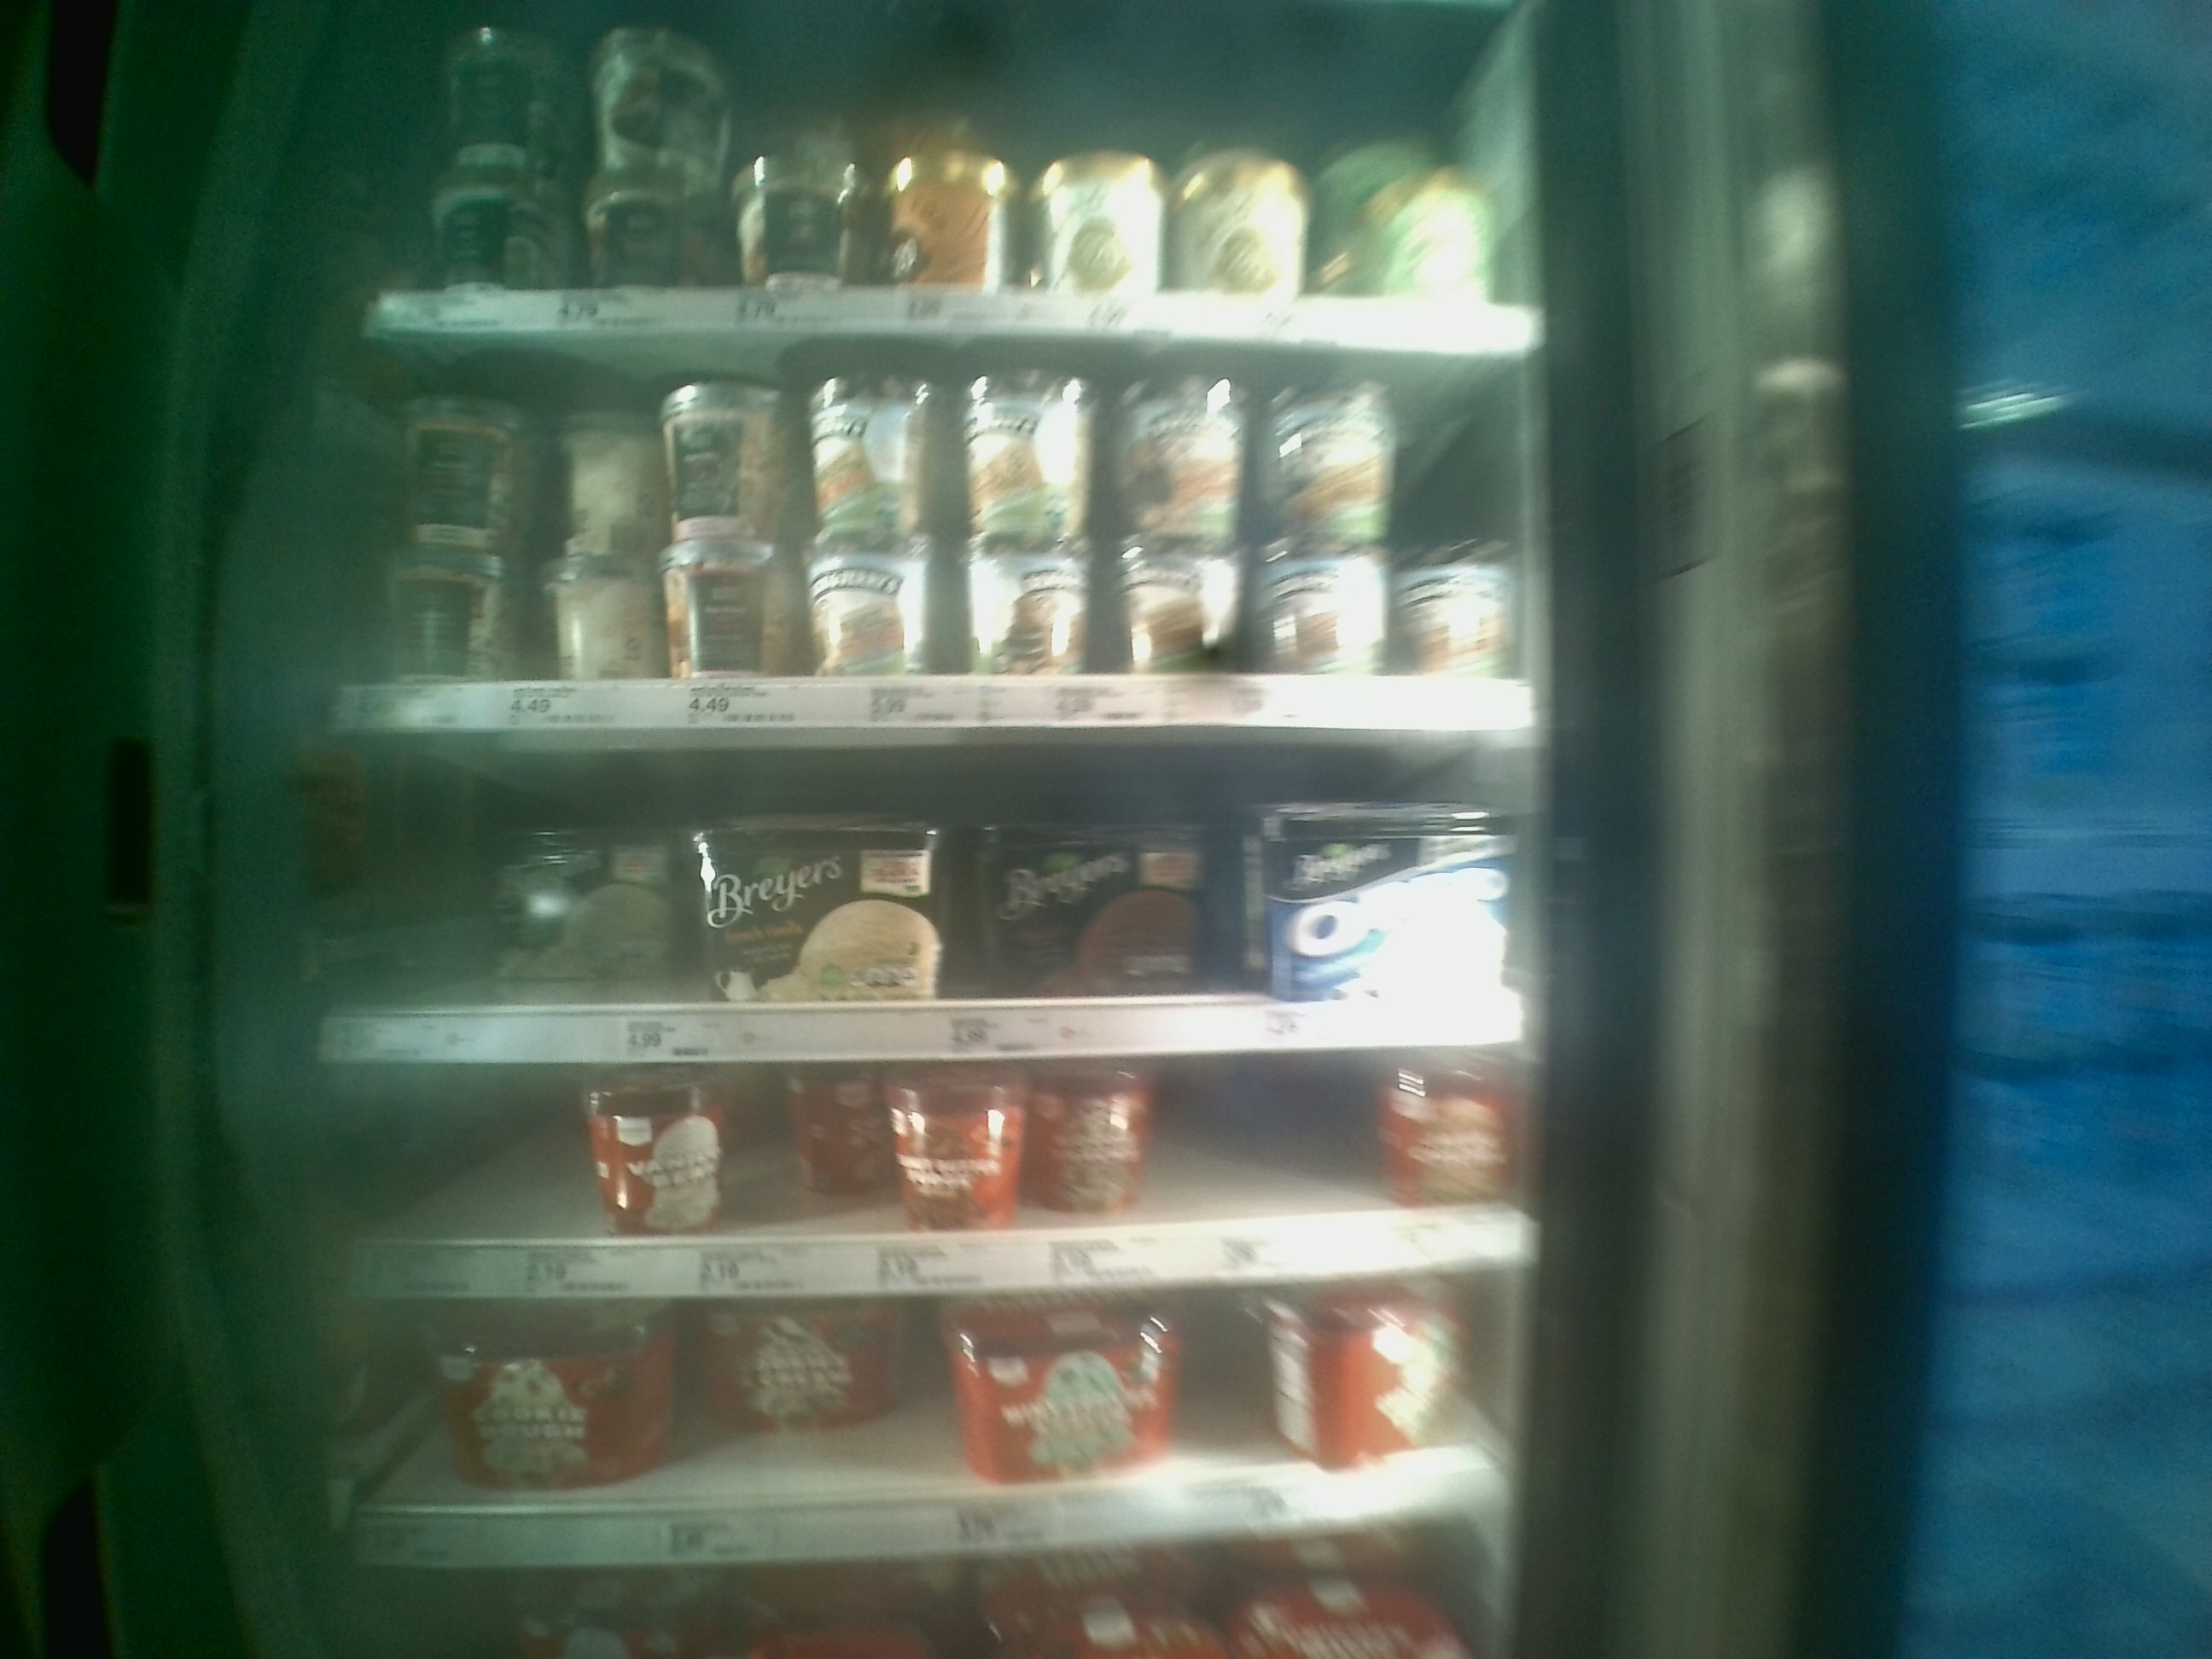ice-cream-shelf: (317, 345, 1531, 730), (322, 739, 1526, 1065)
